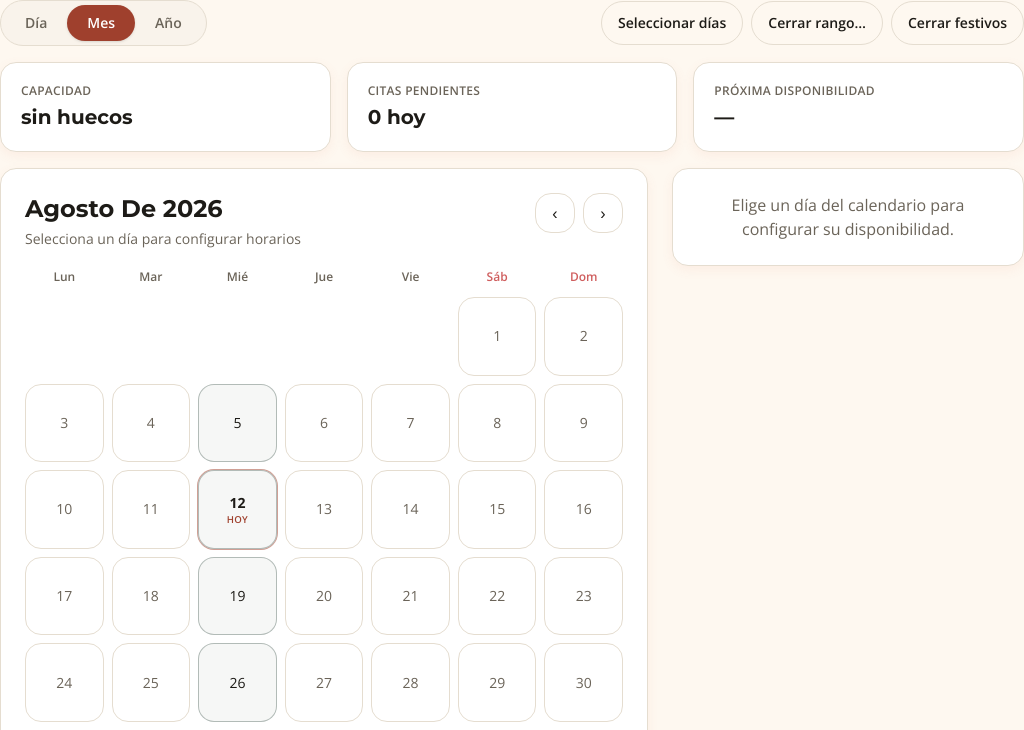
AgendaCliente › borrar una plantilla la quita de la lista
Click the button "Seleccionar días".
click(672, 23)  # box [601, 1, 743, 45]
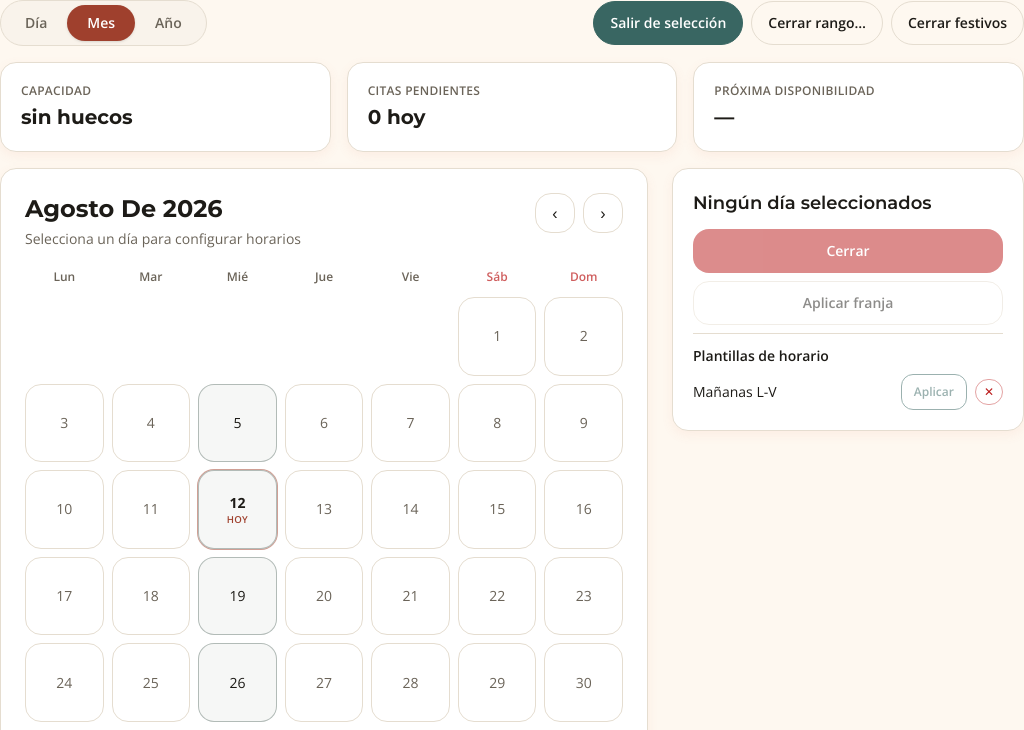
Expected: the text "Mañanas L-V" is shown, [693, 382, 777, 401]
Click the button named "borrar plantilla".
click(989, 392)  # box [975, 379, 1003, 405]
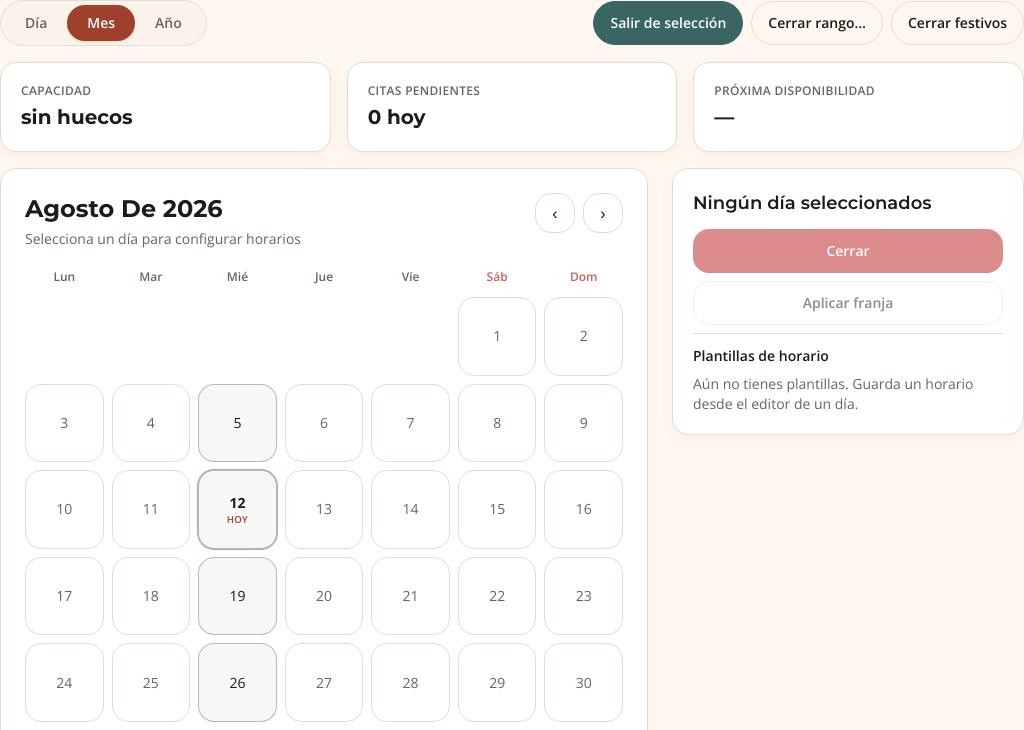
Expected: the text "Mañanas L-V" is gone
